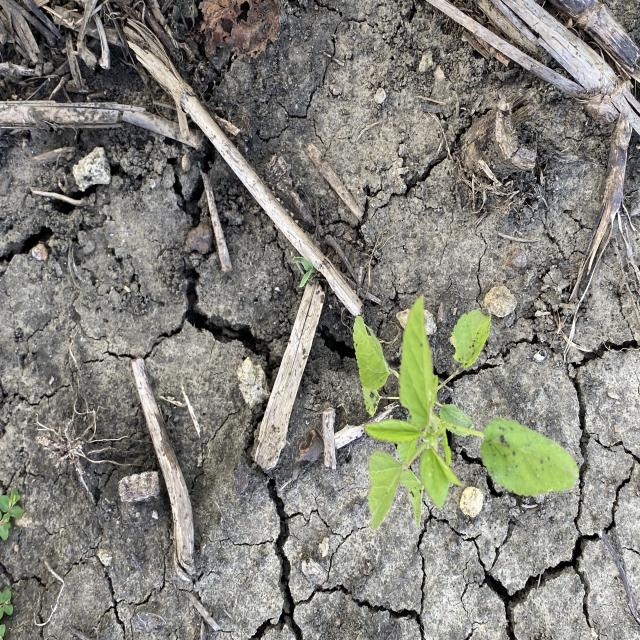PricklySida: (351, 288, 584, 535)
